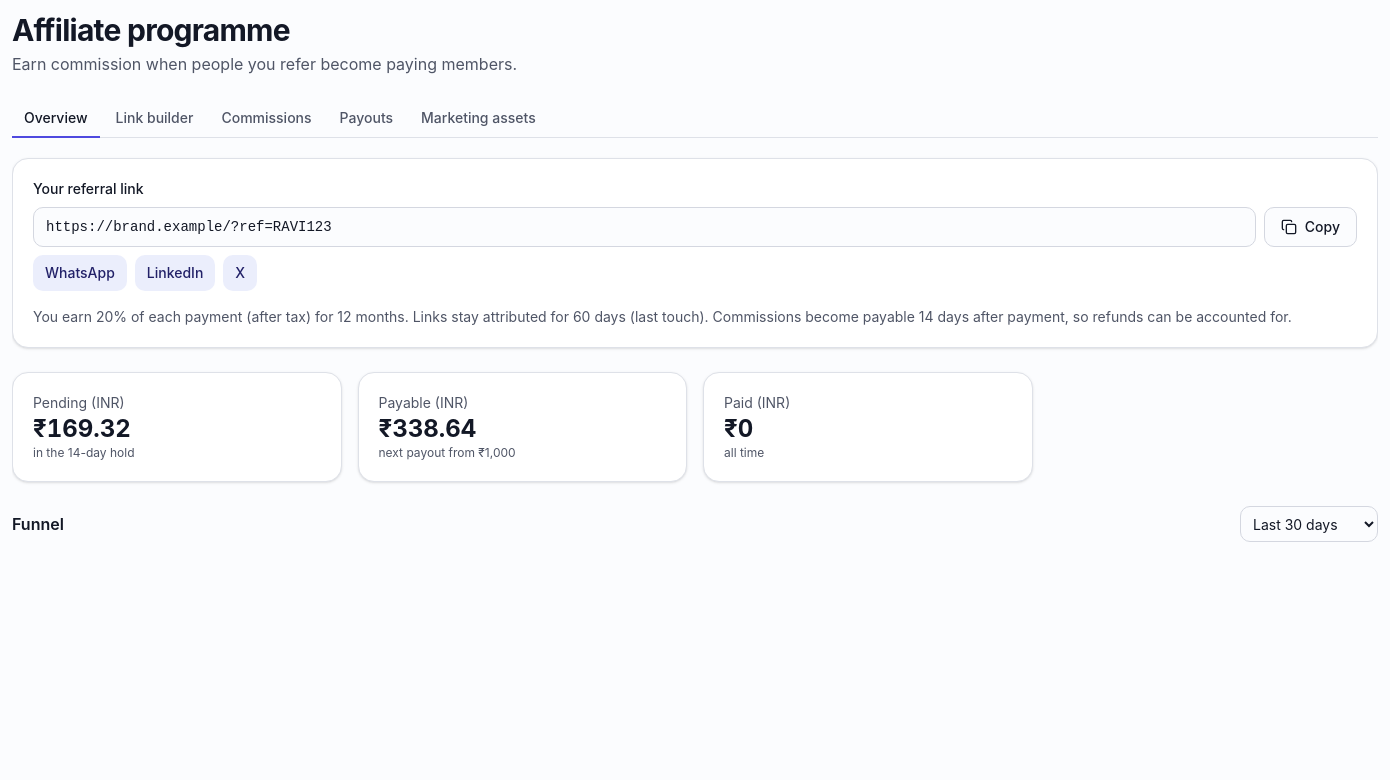
Test: affiliate page › builds UTM-tagged links that keep the ref code
The width and height of the screenshot is (1390, 780).
Click the tab "Link builder". click: (154, 119)
box: top-left (104, 100), bottom-right (205, 138)
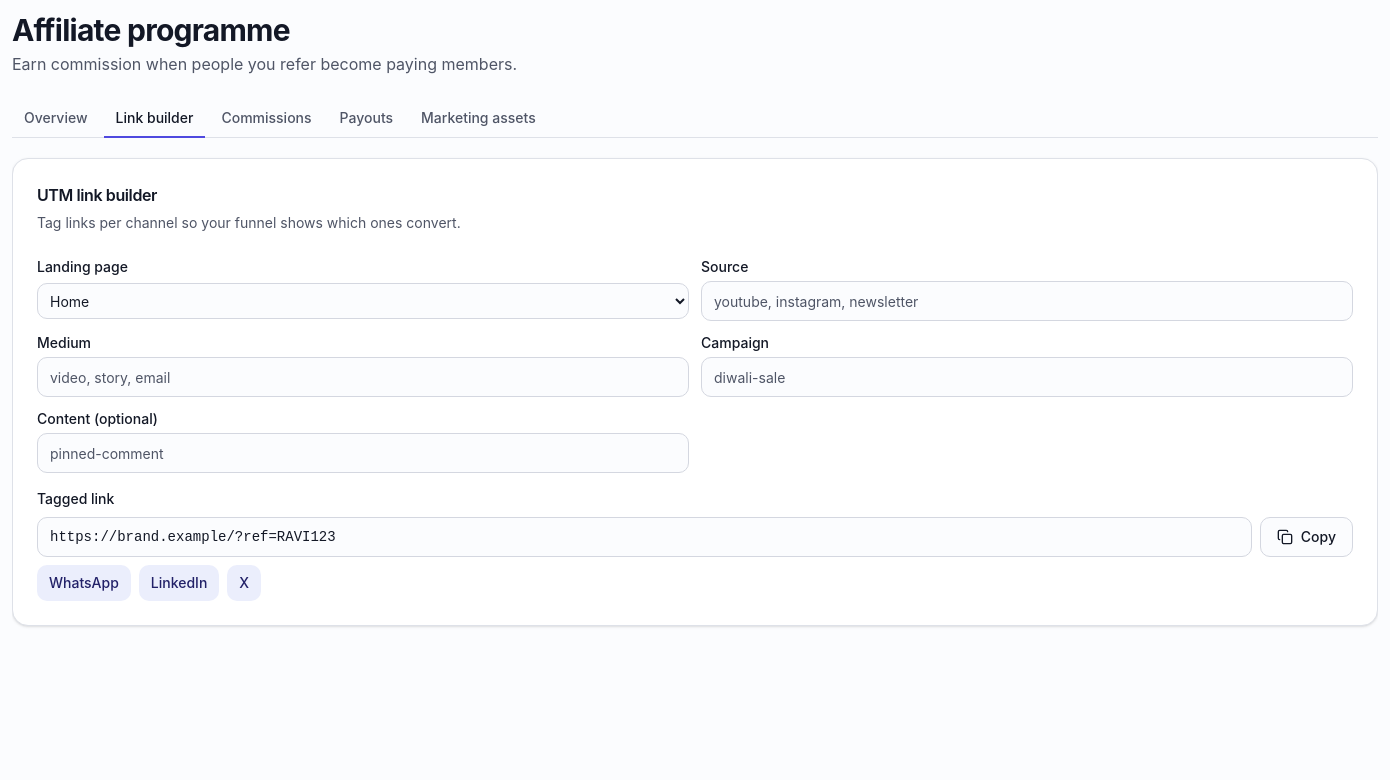
Select "Pricing" in the dropdown labelled "Landing page". click: (363, 301)
box: top-left (37, 283), bottom-right (689, 319)
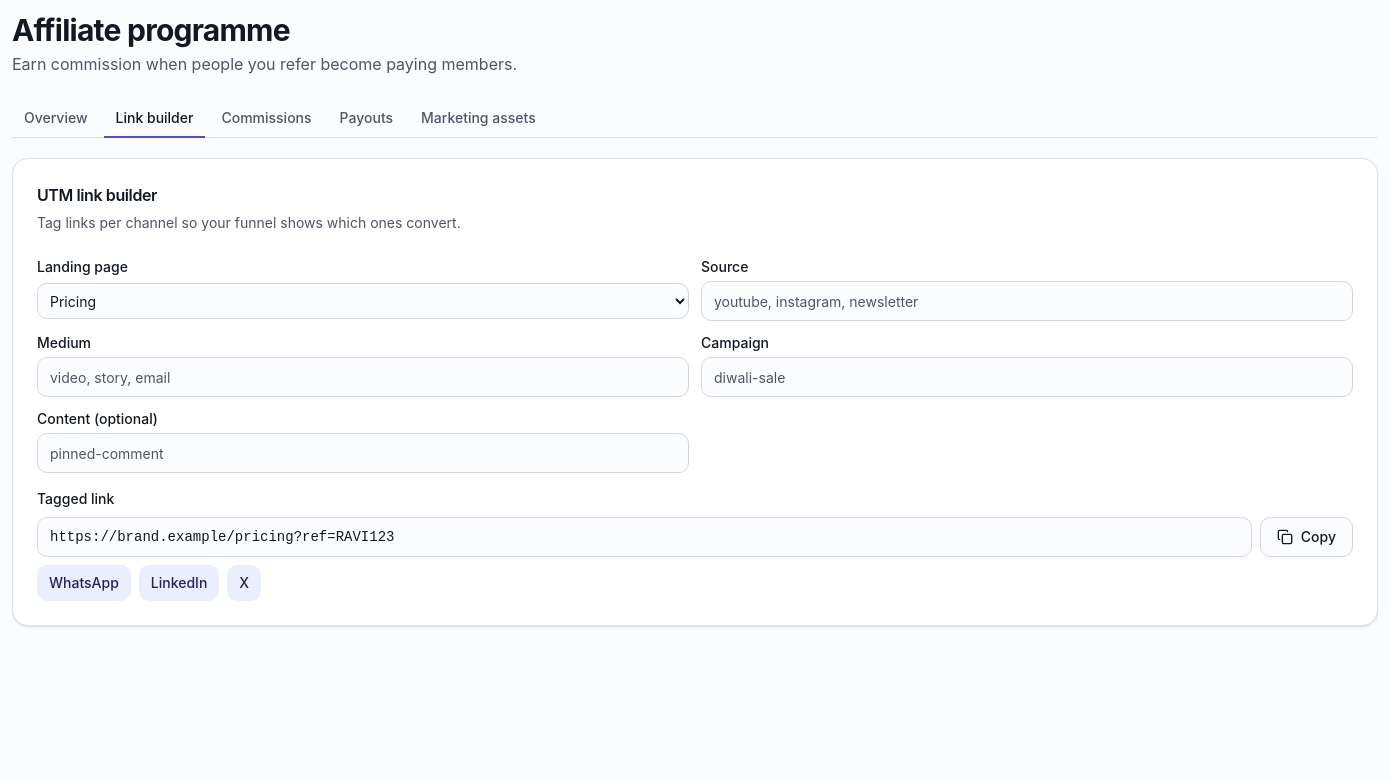
Type "instagram" into the field labelled "Source". click: (1027, 301)
box: top-left (701, 281), bottom-right (1353, 321)
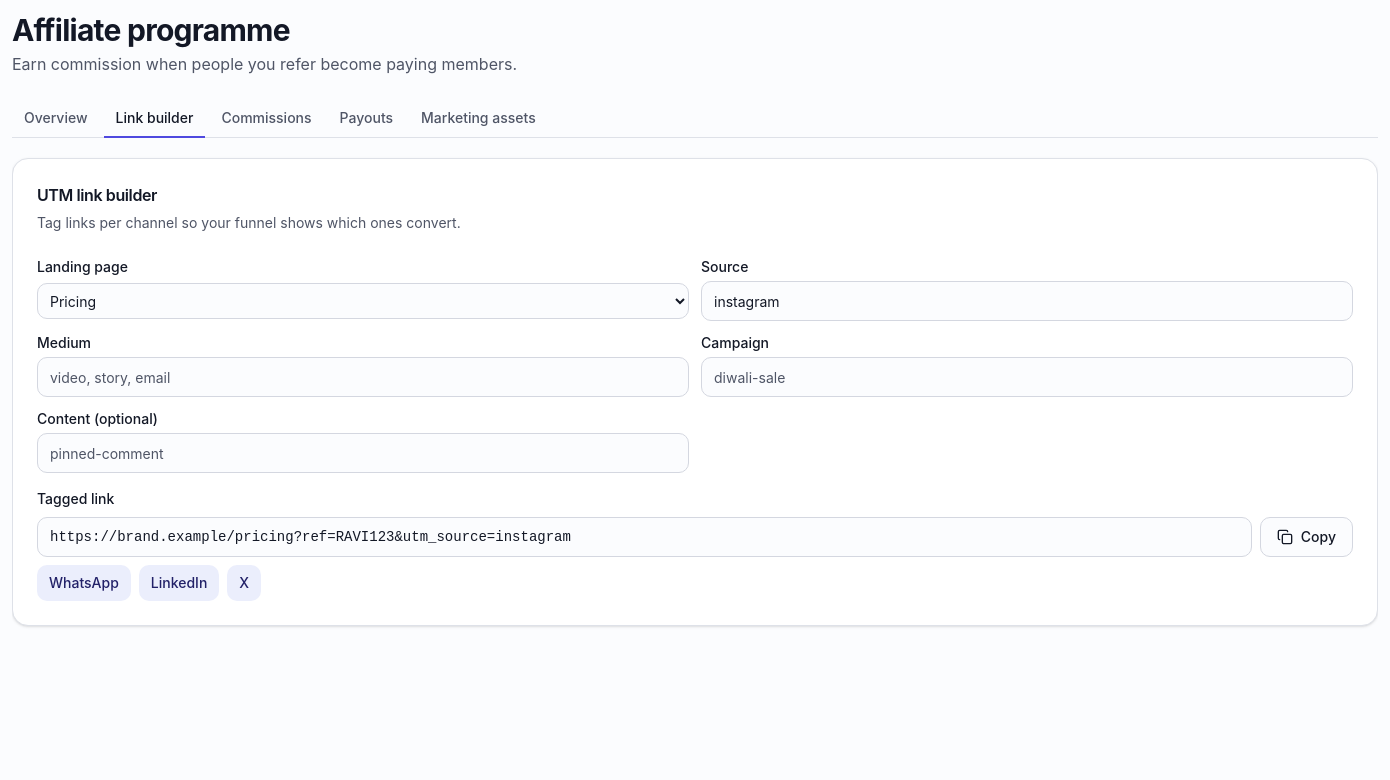
Type "diwali sale" into the field labelled "Campaign". click: (1027, 377)
box: top-left (701, 357), bottom-right (1353, 397)
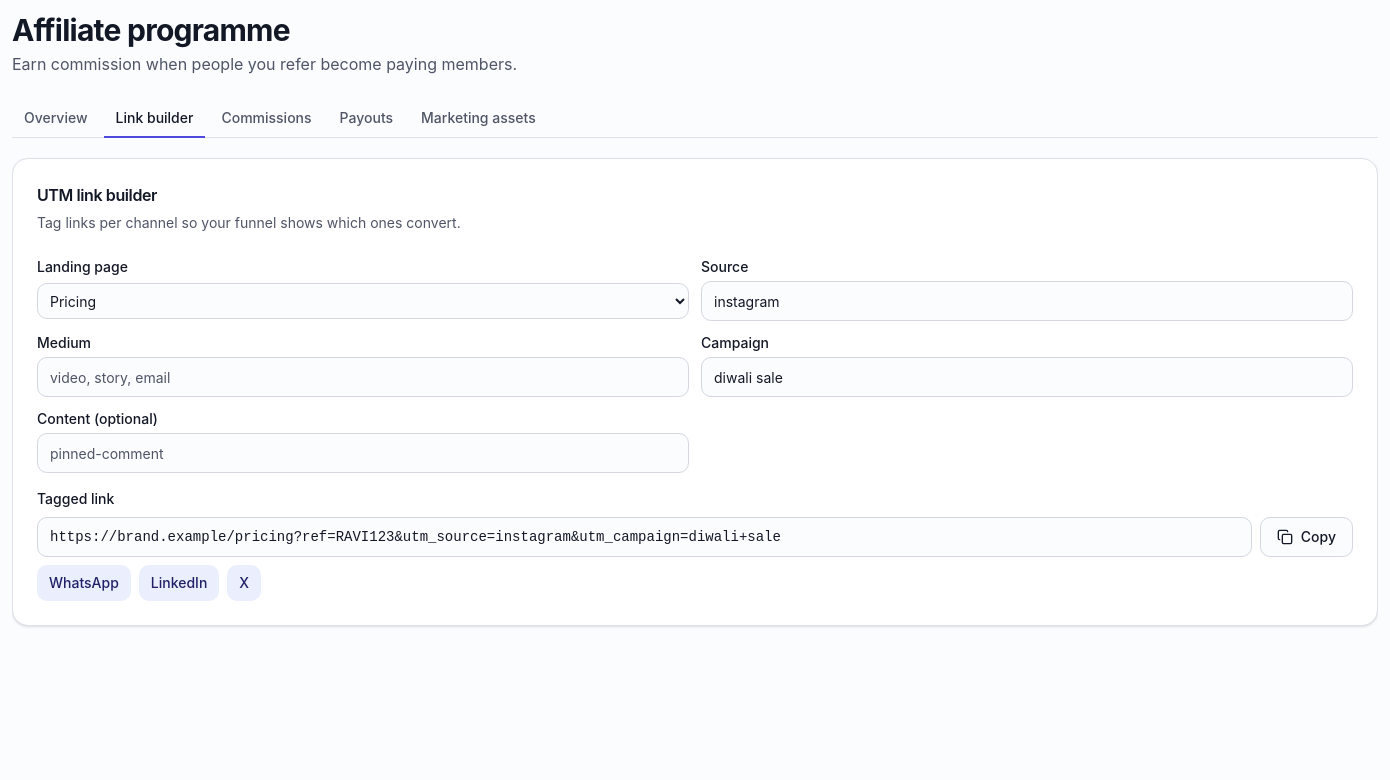
Expected: the field labelled "Tagged link" holds "https://brand.example/pricing?ref=RAVI123&utm_source=instagram&utm_campaign=diwali+sale", top-left (37, 517), bottom-right (1252, 557)
